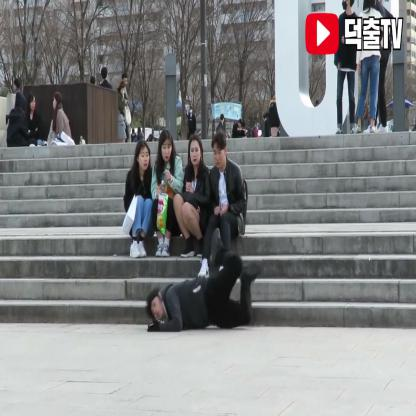Fall_Down: (142, 224, 269, 337)
